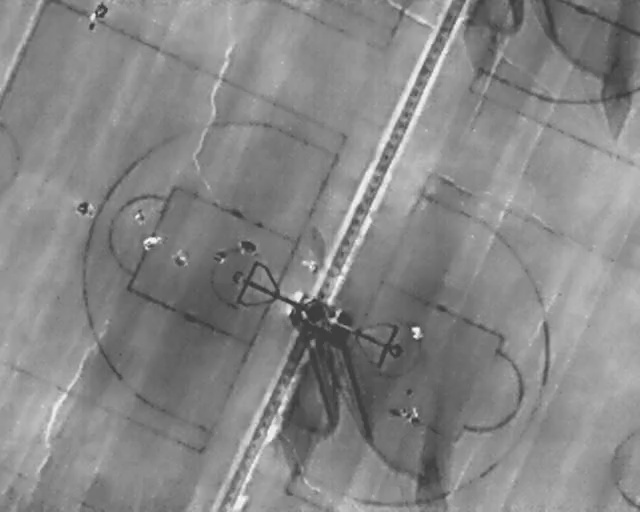Person: (233, 234, 258, 258), (142, 232, 163, 251), (172, 246, 188, 268), (78, 200, 95, 219), (411, 323, 423, 342), (133, 208, 146, 225), (96, 1, 108, 19), (215, 247, 227, 263), (410, 405, 420, 423), (90, 10, 97, 31)
